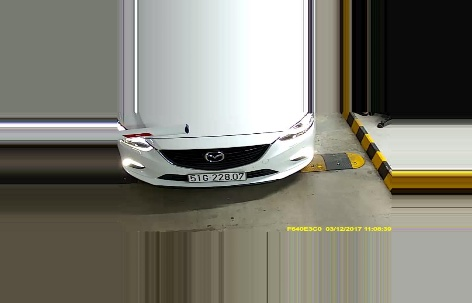plate: (184, 168, 250, 187)
